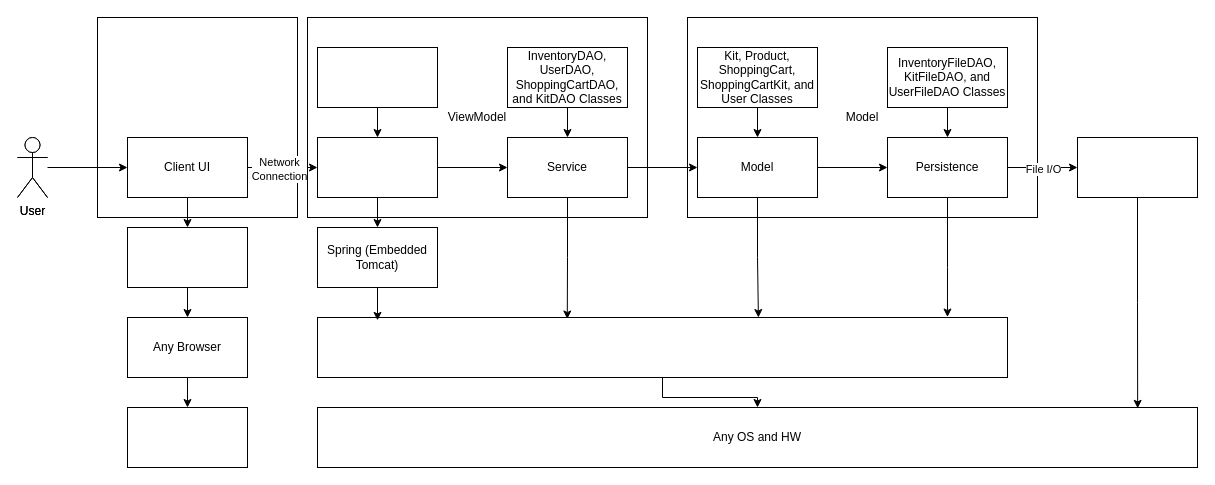
This 1215x485 diagram has some shape labels left out. Each missing label, with the box of its shape:
Angular: (126, 226, 248, 288)
Any OS/HW: (126, 406, 248, 468)
Inventory, User, ShoppingCart, and Kit Controller Classes: (316, 46, 438, 108)
Java: (316, 316, 1008, 378)
REST API (Controller): (316, 136, 438, 198)
Storage: (1076, 136, 1198, 198)
View: (96, 16, 298, 218)
